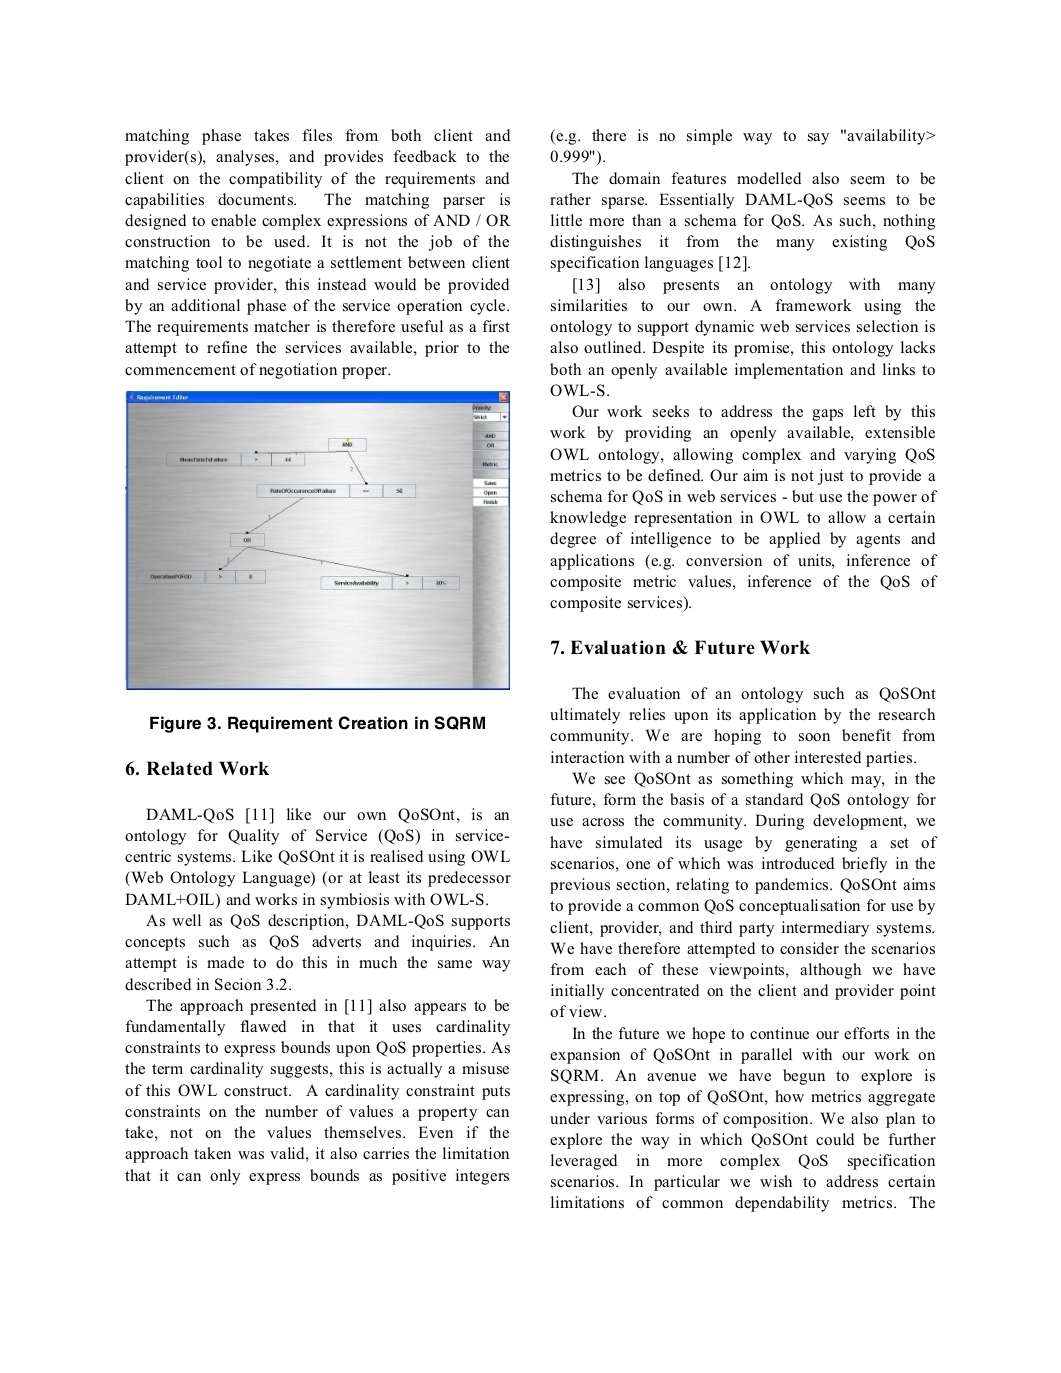figure: (125, 390, 509, 690)
